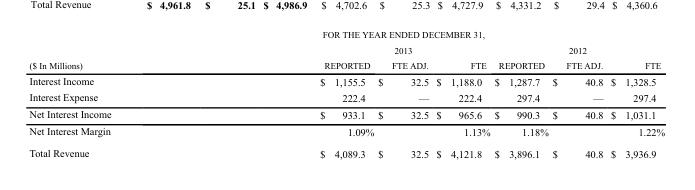table: (28, 28, 664, 159)
table column: (28, 28, 214, 159), (214, 28, 375, 159), (431, 28, 491, 159), (491, 28, 549, 159), (606, 28, 664, 159), (549, 28, 606, 159), (375, 28, 431, 159)
table column header: (28, 28, 664, 72)
table row: (28, 122, 664, 142), (28, 72, 664, 89), (28, 105, 664, 122), (28, 142, 664, 159), (28, 41, 664, 57), (28, 89, 664, 105), (28, 57, 664, 72), (28, 28, 664, 41)
table spanning cell: (28, 28, 214, 72), (214, 28, 664, 41), (214, 41, 491, 57), (491, 41, 664, 57)
